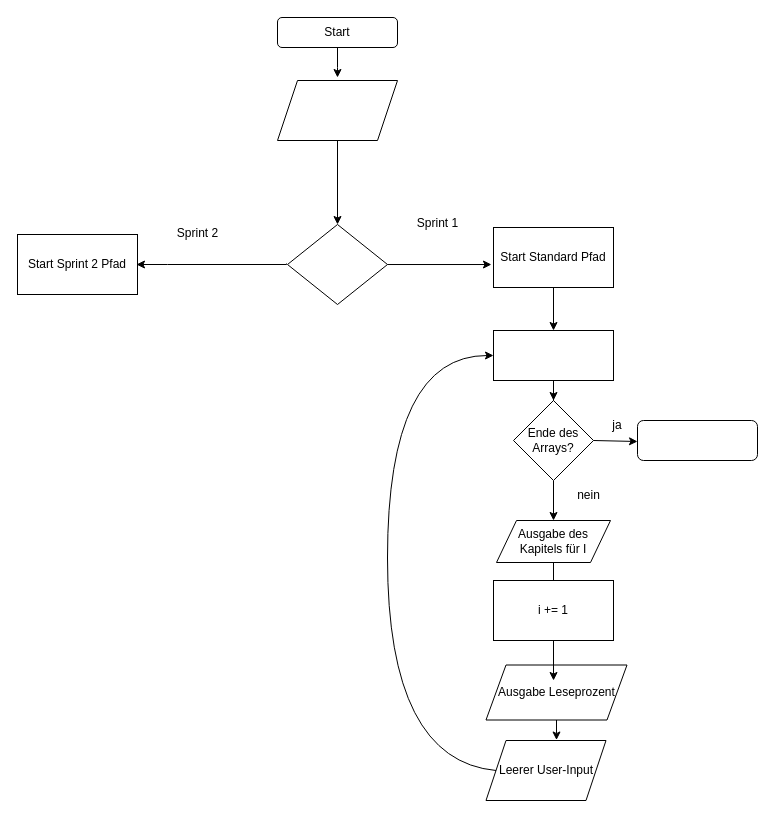
This 775x818 diagram has some shape labels left out. The centre of each missing label's shape, as x and y in pixels:
"Abfrage Pfad" goes at pixel 337 110.
"Ende Standard Pfad (Sprint 1)" goes at pixel 697 440.
"i = 0" goes at pixel 553 355.
"Wähle deinen Pfad" goes at pixel 337 264.
